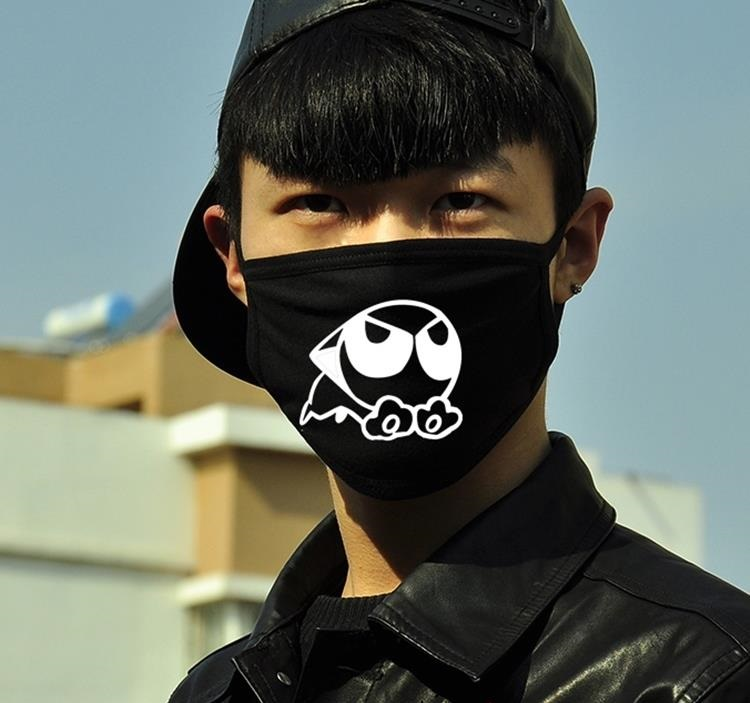face_mask: (244, 82, 551, 445)
